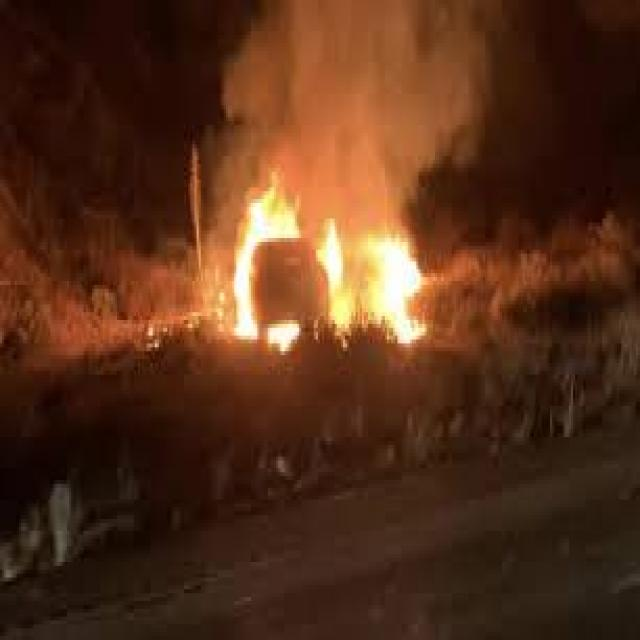fire: (220, 4, 493, 191)
smoke: (228, 188, 431, 348)
